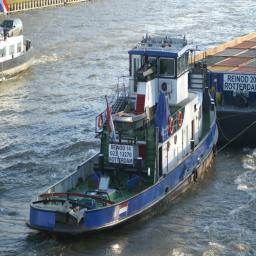tugboat: (24, 29, 222, 244)
